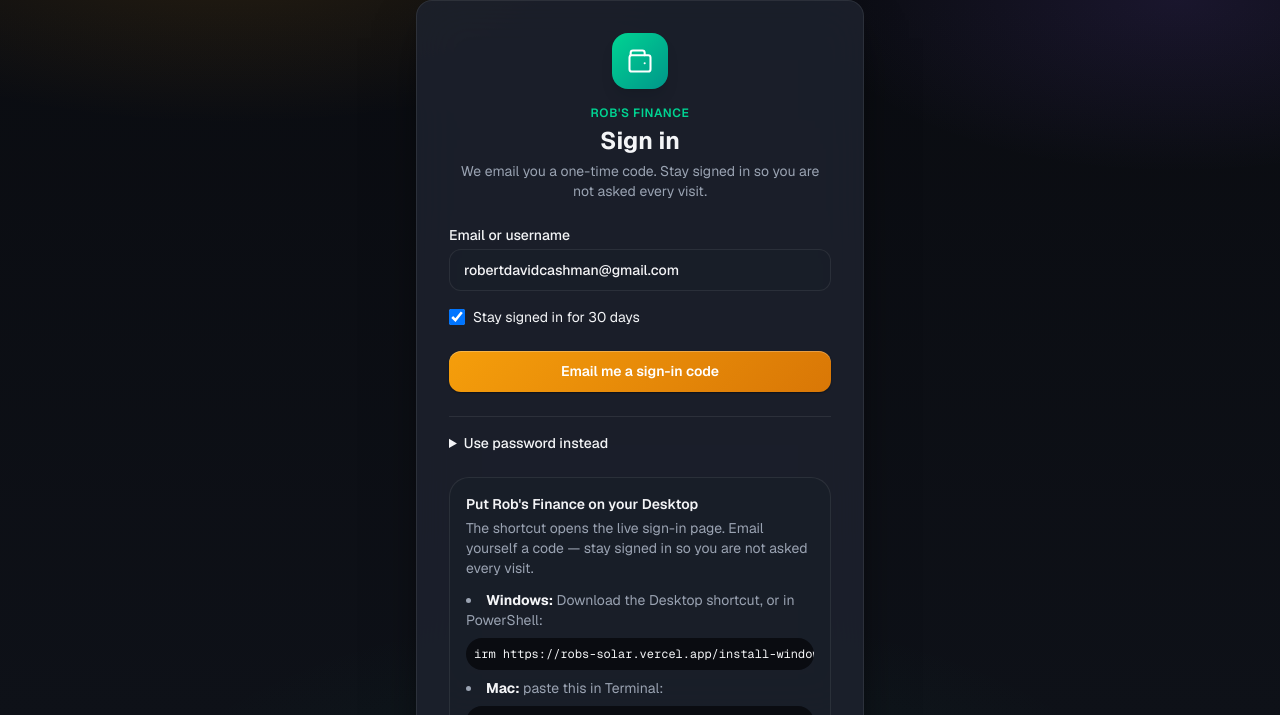
Scenario: LoginPage › leads with email code and keeps remember-me on
This screenshot has width=1280, height=715.
Expected: the checkbox labelled "Stay signed in for 30 days" is checked, [449, 309, 465, 325]
Expected: the field labelled "6-digit sign-in code" is not shown
Step 1. Replace the text in the field labelled "Email or username" with "rob@example.com" → (640, 270), box [449, 249, 831, 291]
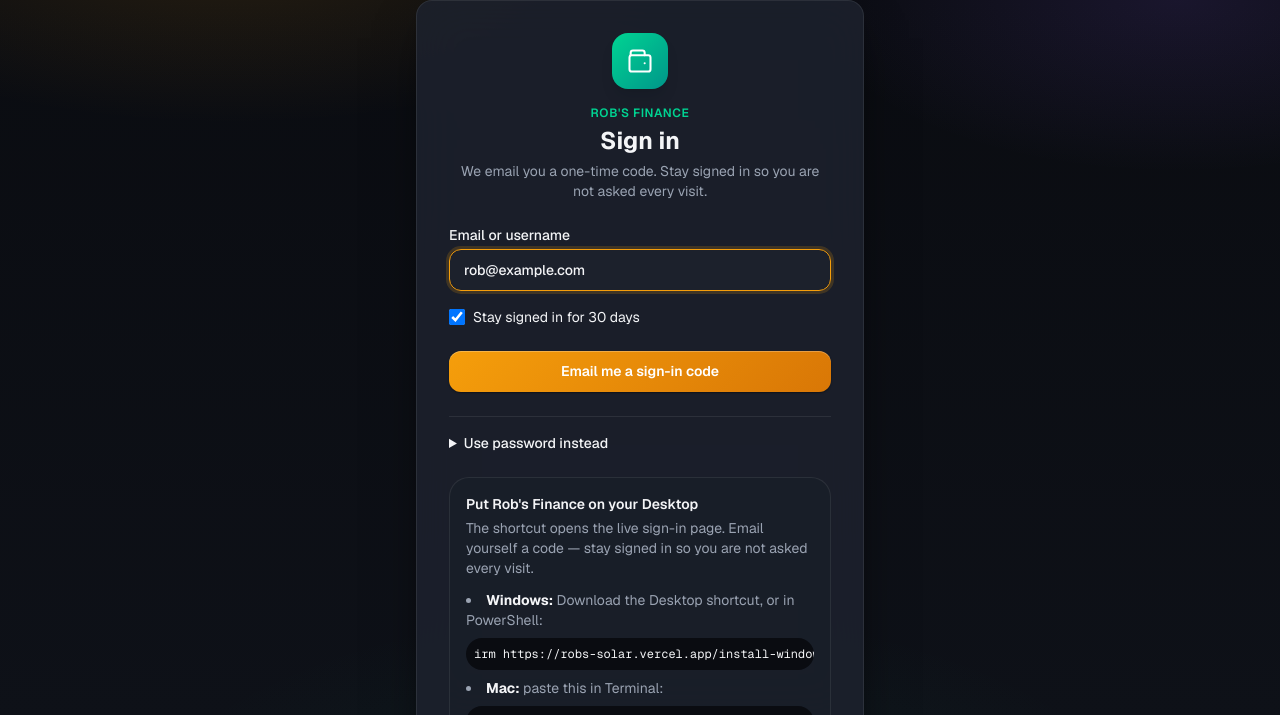
Step 2. Click the button "Email me a sign-in code" → (640, 372), box [449, 351, 831, 392]
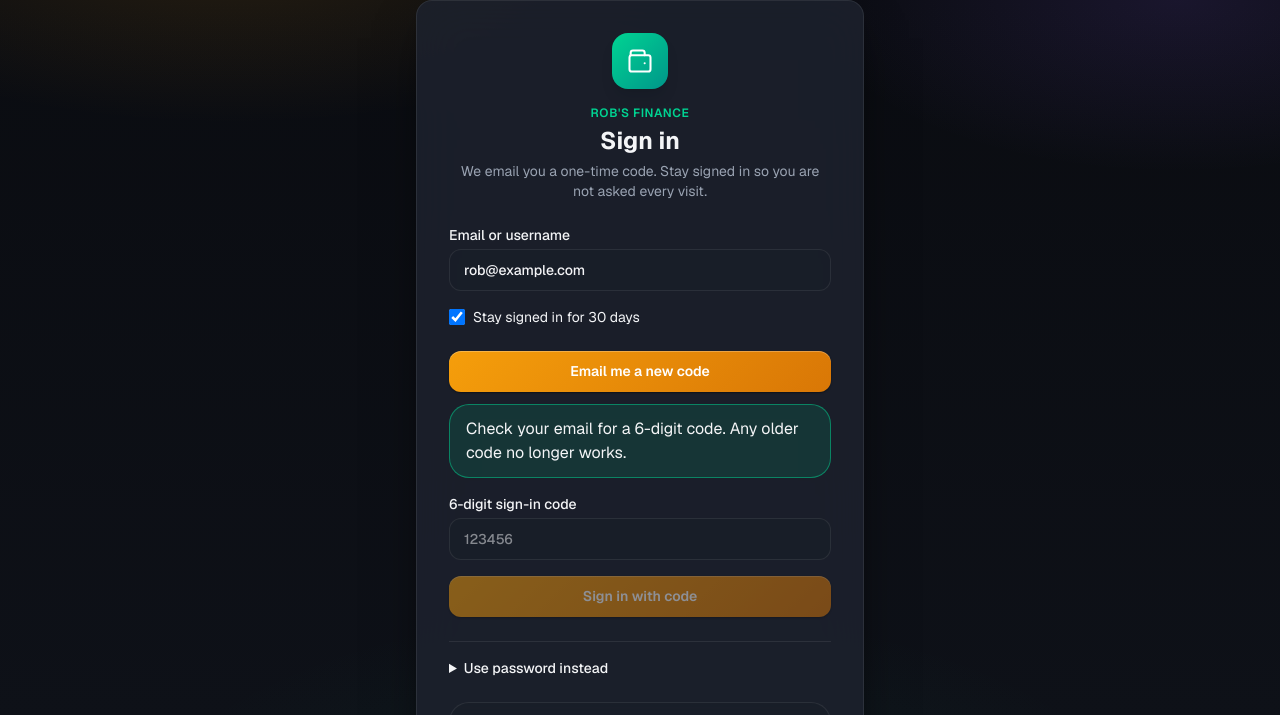
Expected: the text "Check your email" is shown, [466, 418, 799, 463]
Expected: the field labelled "6-digit sign-in code" is shown, [449, 518, 831, 560]
